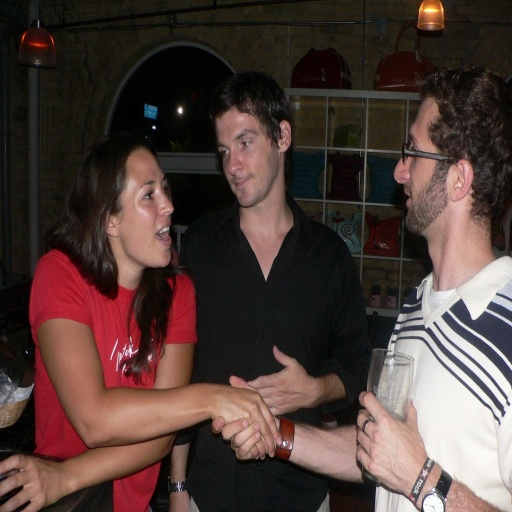hand: (348, 389, 442, 497), (209, 374, 277, 460), (209, 384, 281, 461), (245, 344, 313, 416), (0, 453, 72, 511), (168, 492, 192, 511)
